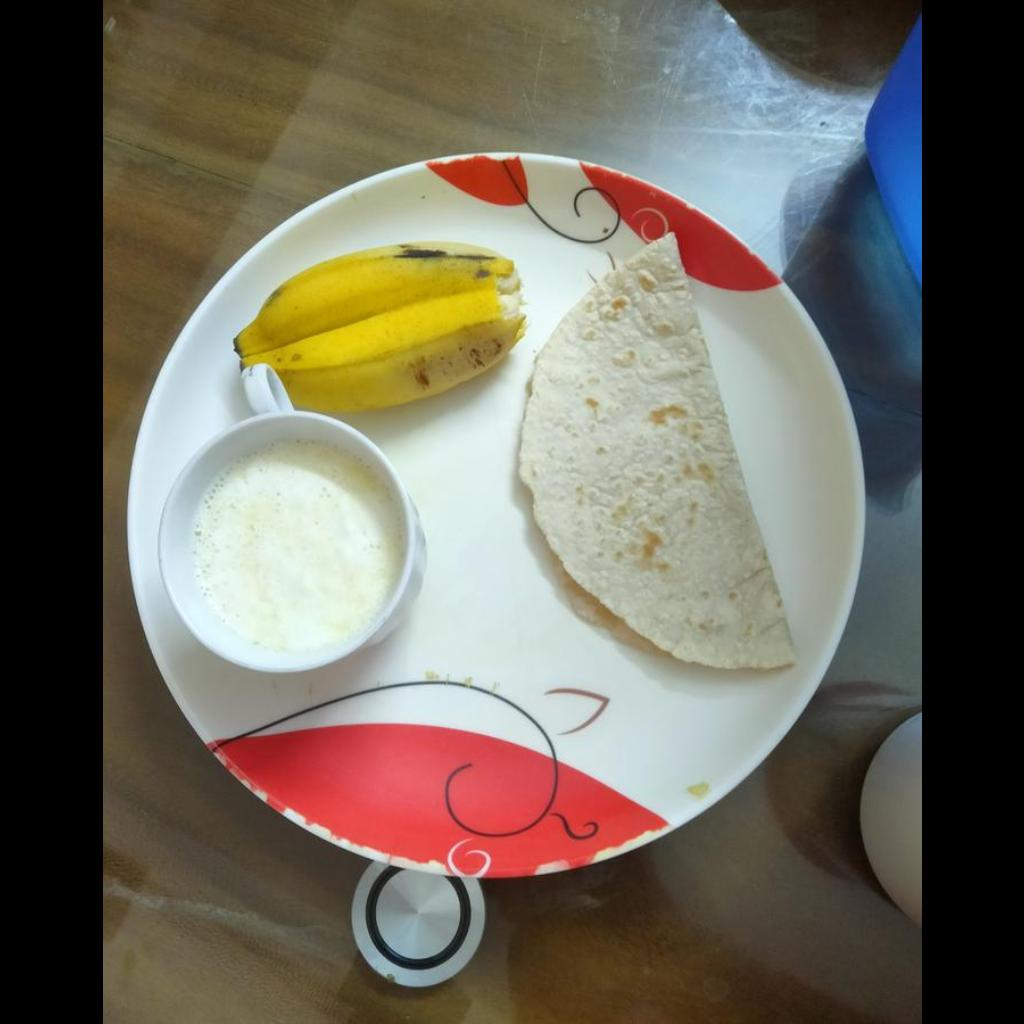banana: (232, 237, 529, 417)
milk: (184, 442, 403, 652)
ruti: (515, 231, 800, 665)
